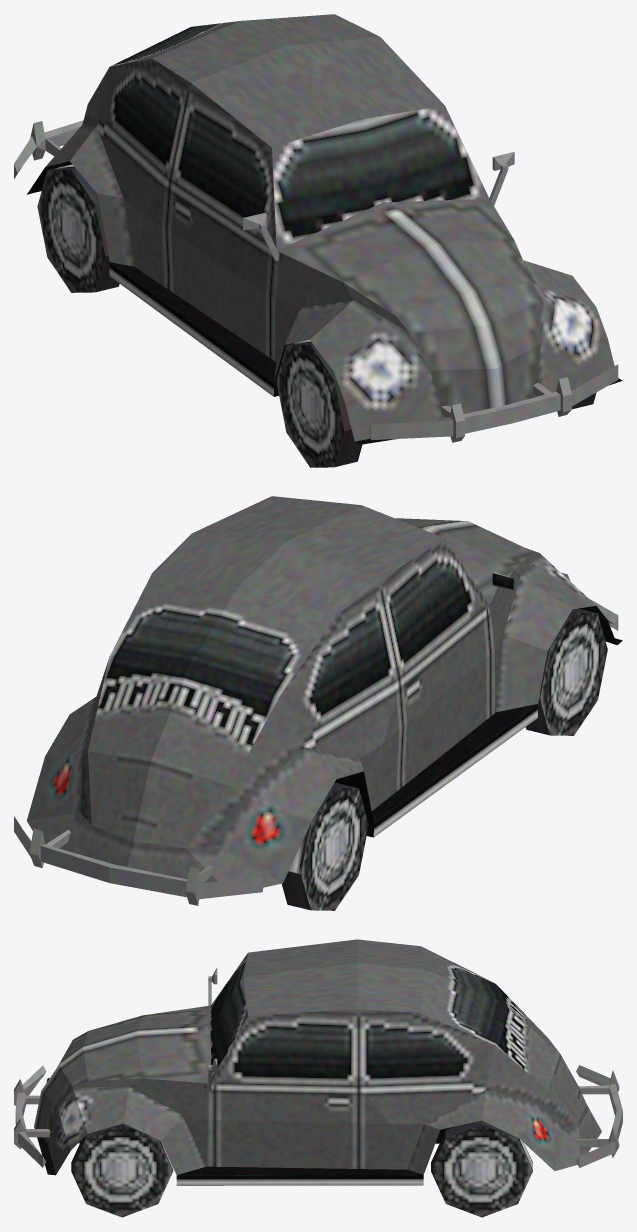
File: petagris.fbx
The picture shows the model from 3 angles, top to bottom: view 1: azimuth 30°, elevation 25°; view 2: azimuth 150°, elevation 25°; view 3: azimuth 270°, elevation 25°; orthographic projection. The views are drawn at different scales.
Parts seen in each view (by area): view 1: compact_classic; view 2: compact_classic; view 3: compact_classic.
Boxes of the visible parts, x1,y1,x2,y2 form: compact_classic: (14,14,622,467); compact_classic: (14,496,622,910); compact_classic: (14,939,622,1217).
Size of the model in its own units: 158 by 153 by 406.
Materials: 1 (1 with a texture image).
